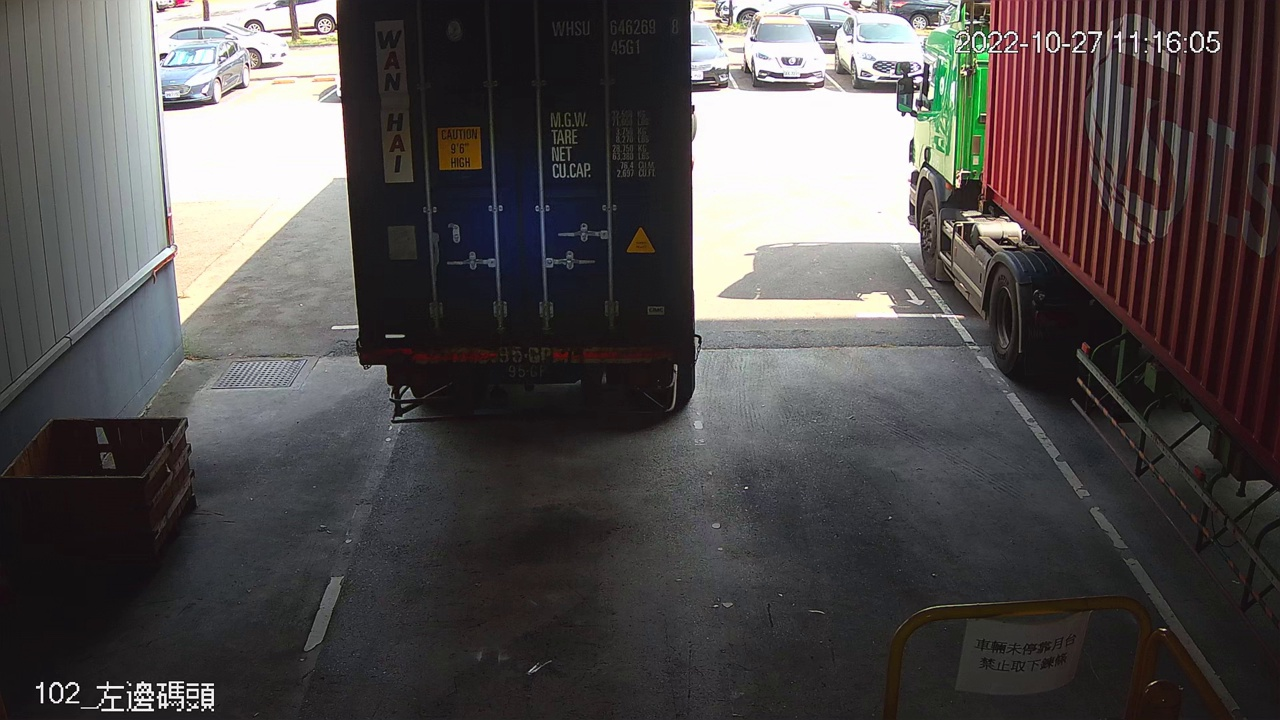container: (546, 10, 684, 61)
